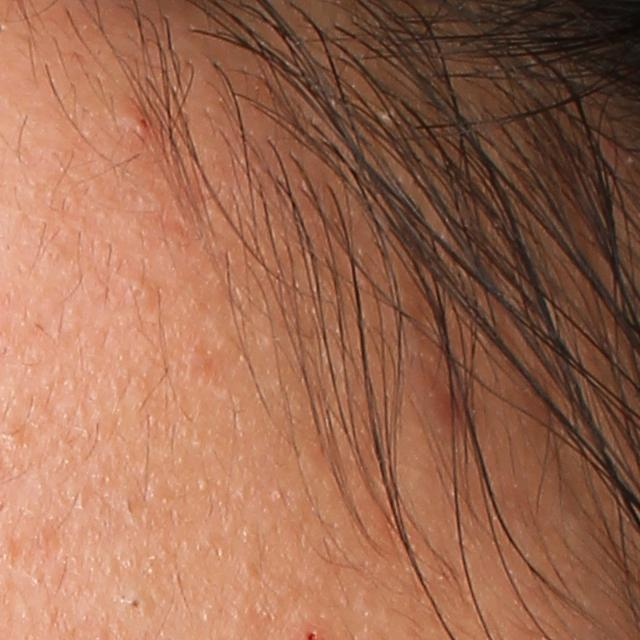comedo: (125, 275, 162, 306), (123, 579, 149, 616)
papule: (124, 106, 158, 138)
